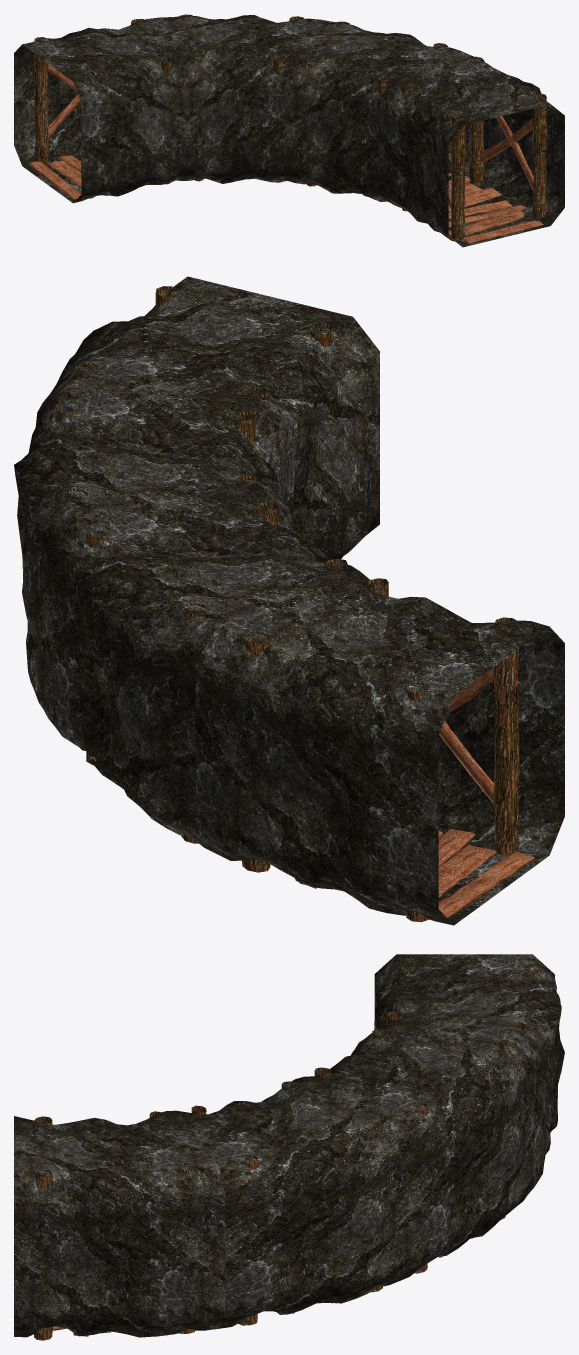
The model's file is Cave_034.fbx.
The picture shows the model from 3 angles, top to bottom: view 1: azimuth 30°, elevation 25°; view 2: azimuth 150°, elevation 25°; view 3: azimuth 270°, elevation 25°; orthographic projection. The views are drawn at different scales.
Visible parts, largest first — view 1: Cave.034; view 2: Cave.034; view 3: Cave.034.
Part boxes in pixels (x1=…): Cave.034: x1=14, y1=14, x2=564, y2=247; Cave.034: x1=14, y1=276, x2=564, y2=925; Cave.034: x1=14, y1=954, x2=564, y2=1340.
Size of the model in its own units: 913 by 313 by 917.
